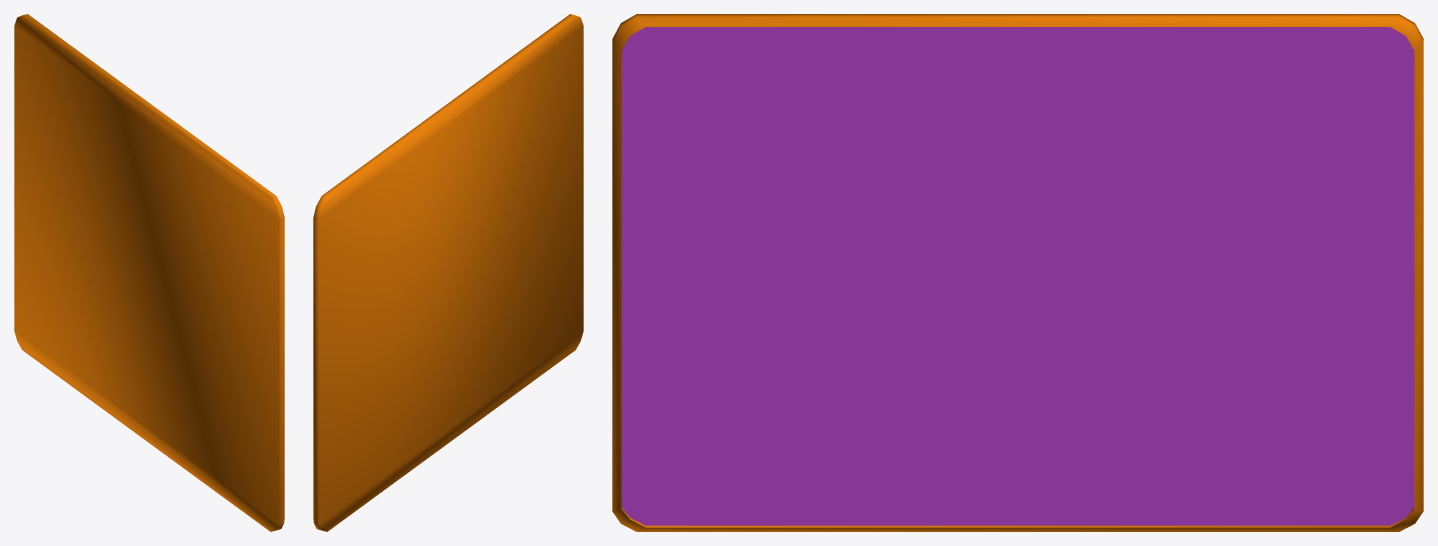
Rendered from cuadro3_pasado.fbx.
The picture shows the model from 3 angles, left to right: view 1: azimuth 30°, elevation 25°; view 2: azimuth 150°, elevation 25°; view 3: azimuth 270°, elevation 25°; orthographic projection. The views are drawn at different scales.
Parts seen in each view (by area): view 1: Cube.003; view 2: Cube.003; view 3: Cube.005, Cube.003.
Boxes of the visible parts, left/top/right/bottom form: Cube.003: left=14, top=14, right=284, bottom=531; Cube.003: left=313, top=14, right=583, bottom=531; Cube.005: left=621, top=27, right=1414, bottom=525; Cube.003: left=612, top=14, right=1423, bottom=531.
Bounding box in the file's own units: 0.2987 × 10.47 × 14.99.
